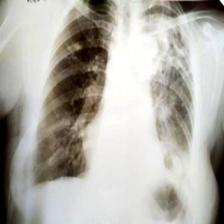tuberculosis: (27, 0, 200, 208)
